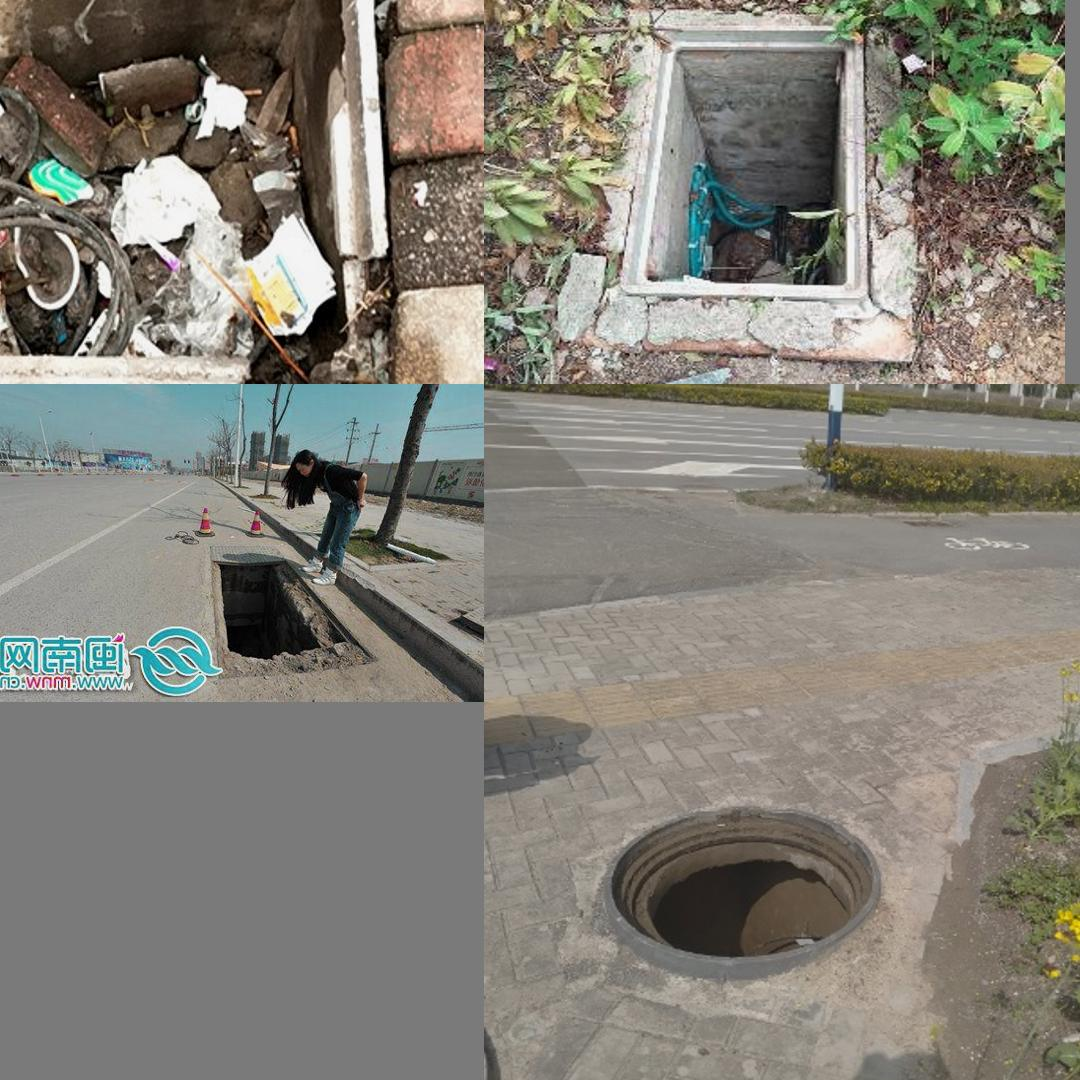lose: (0, 0, 391, 384), (622, 25, 874, 298), (601, 806, 879, 981), (204, 545, 354, 680)
